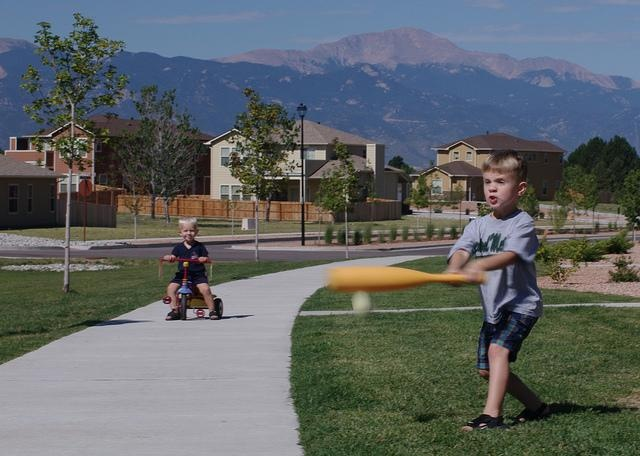person: (435, 151, 544, 435), (158, 215, 229, 322)
